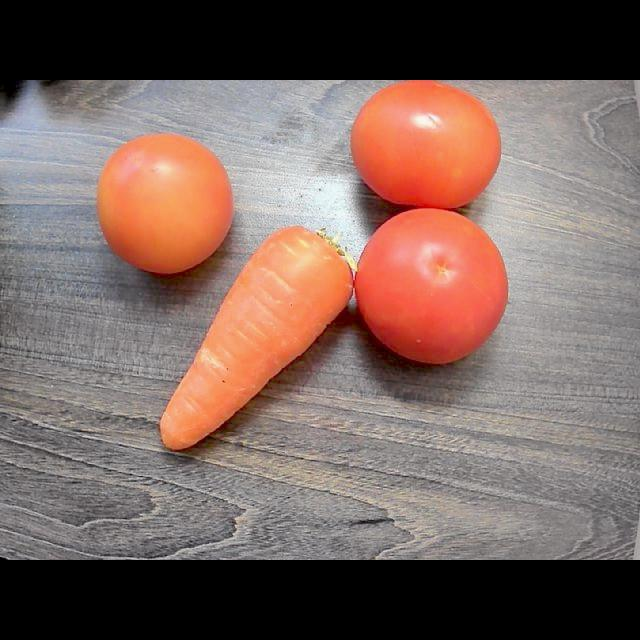tomate: (356, 208, 507, 363), (351, 80, 501, 208), (98, 134, 234, 273)
zanahoria: (161, 226, 357, 449)
